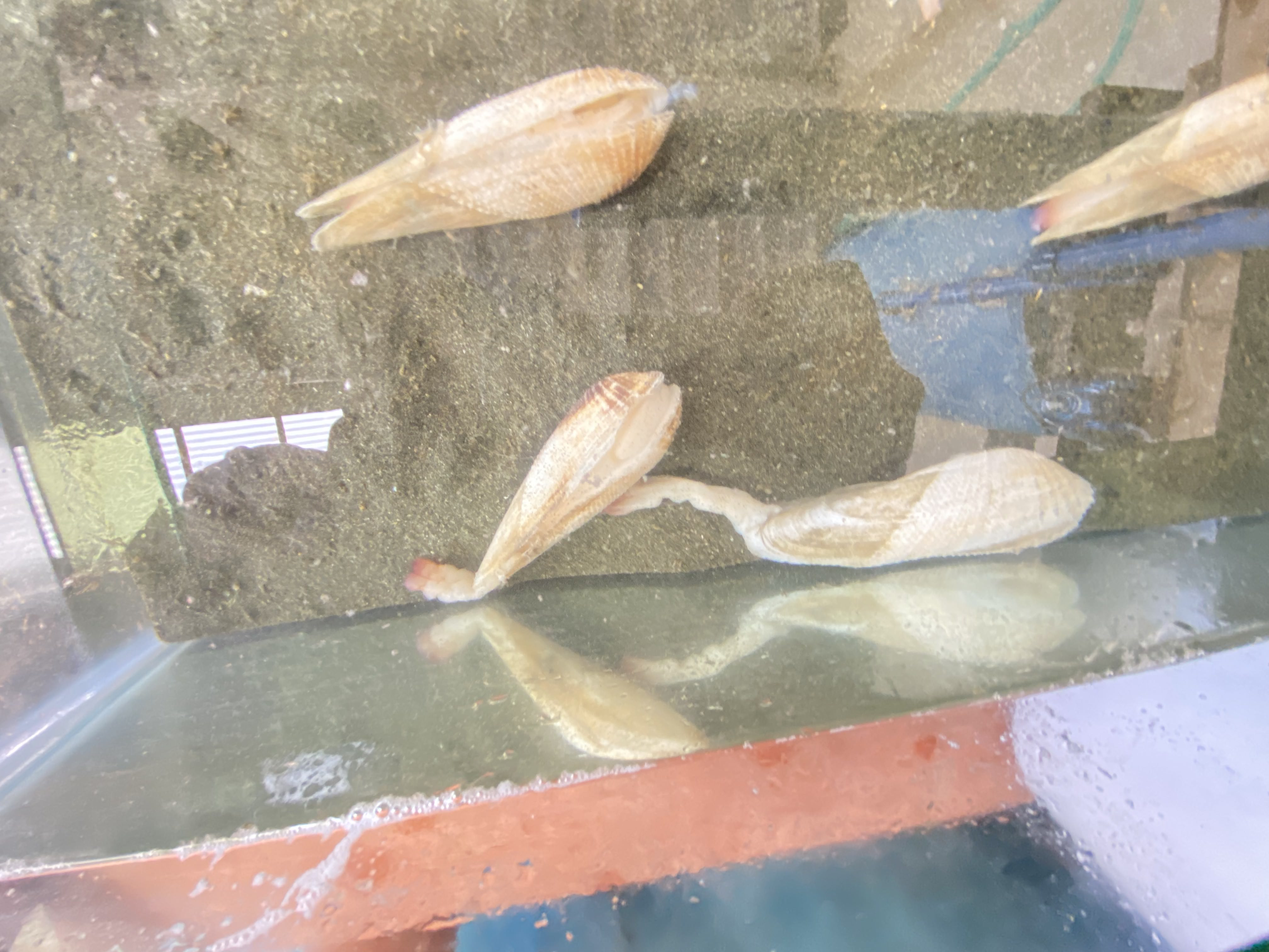At risk: (405, 368, 1094, 601), (296, 69, 673, 250), (1023, 72, 1269, 251)
